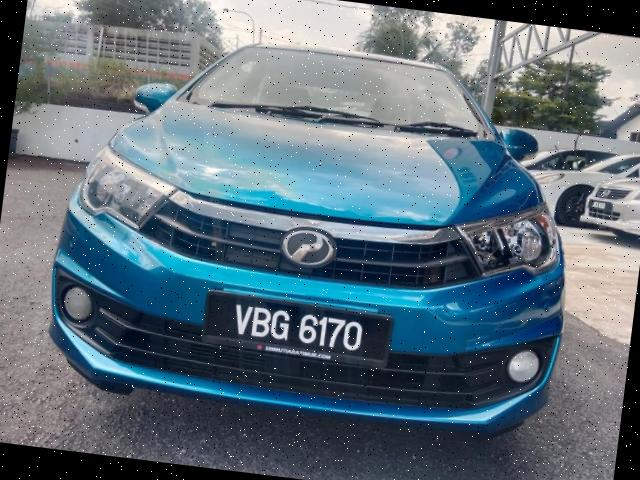License_Plate: (206, 290, 381, 363)
car: (32, 8, 597, 454)
